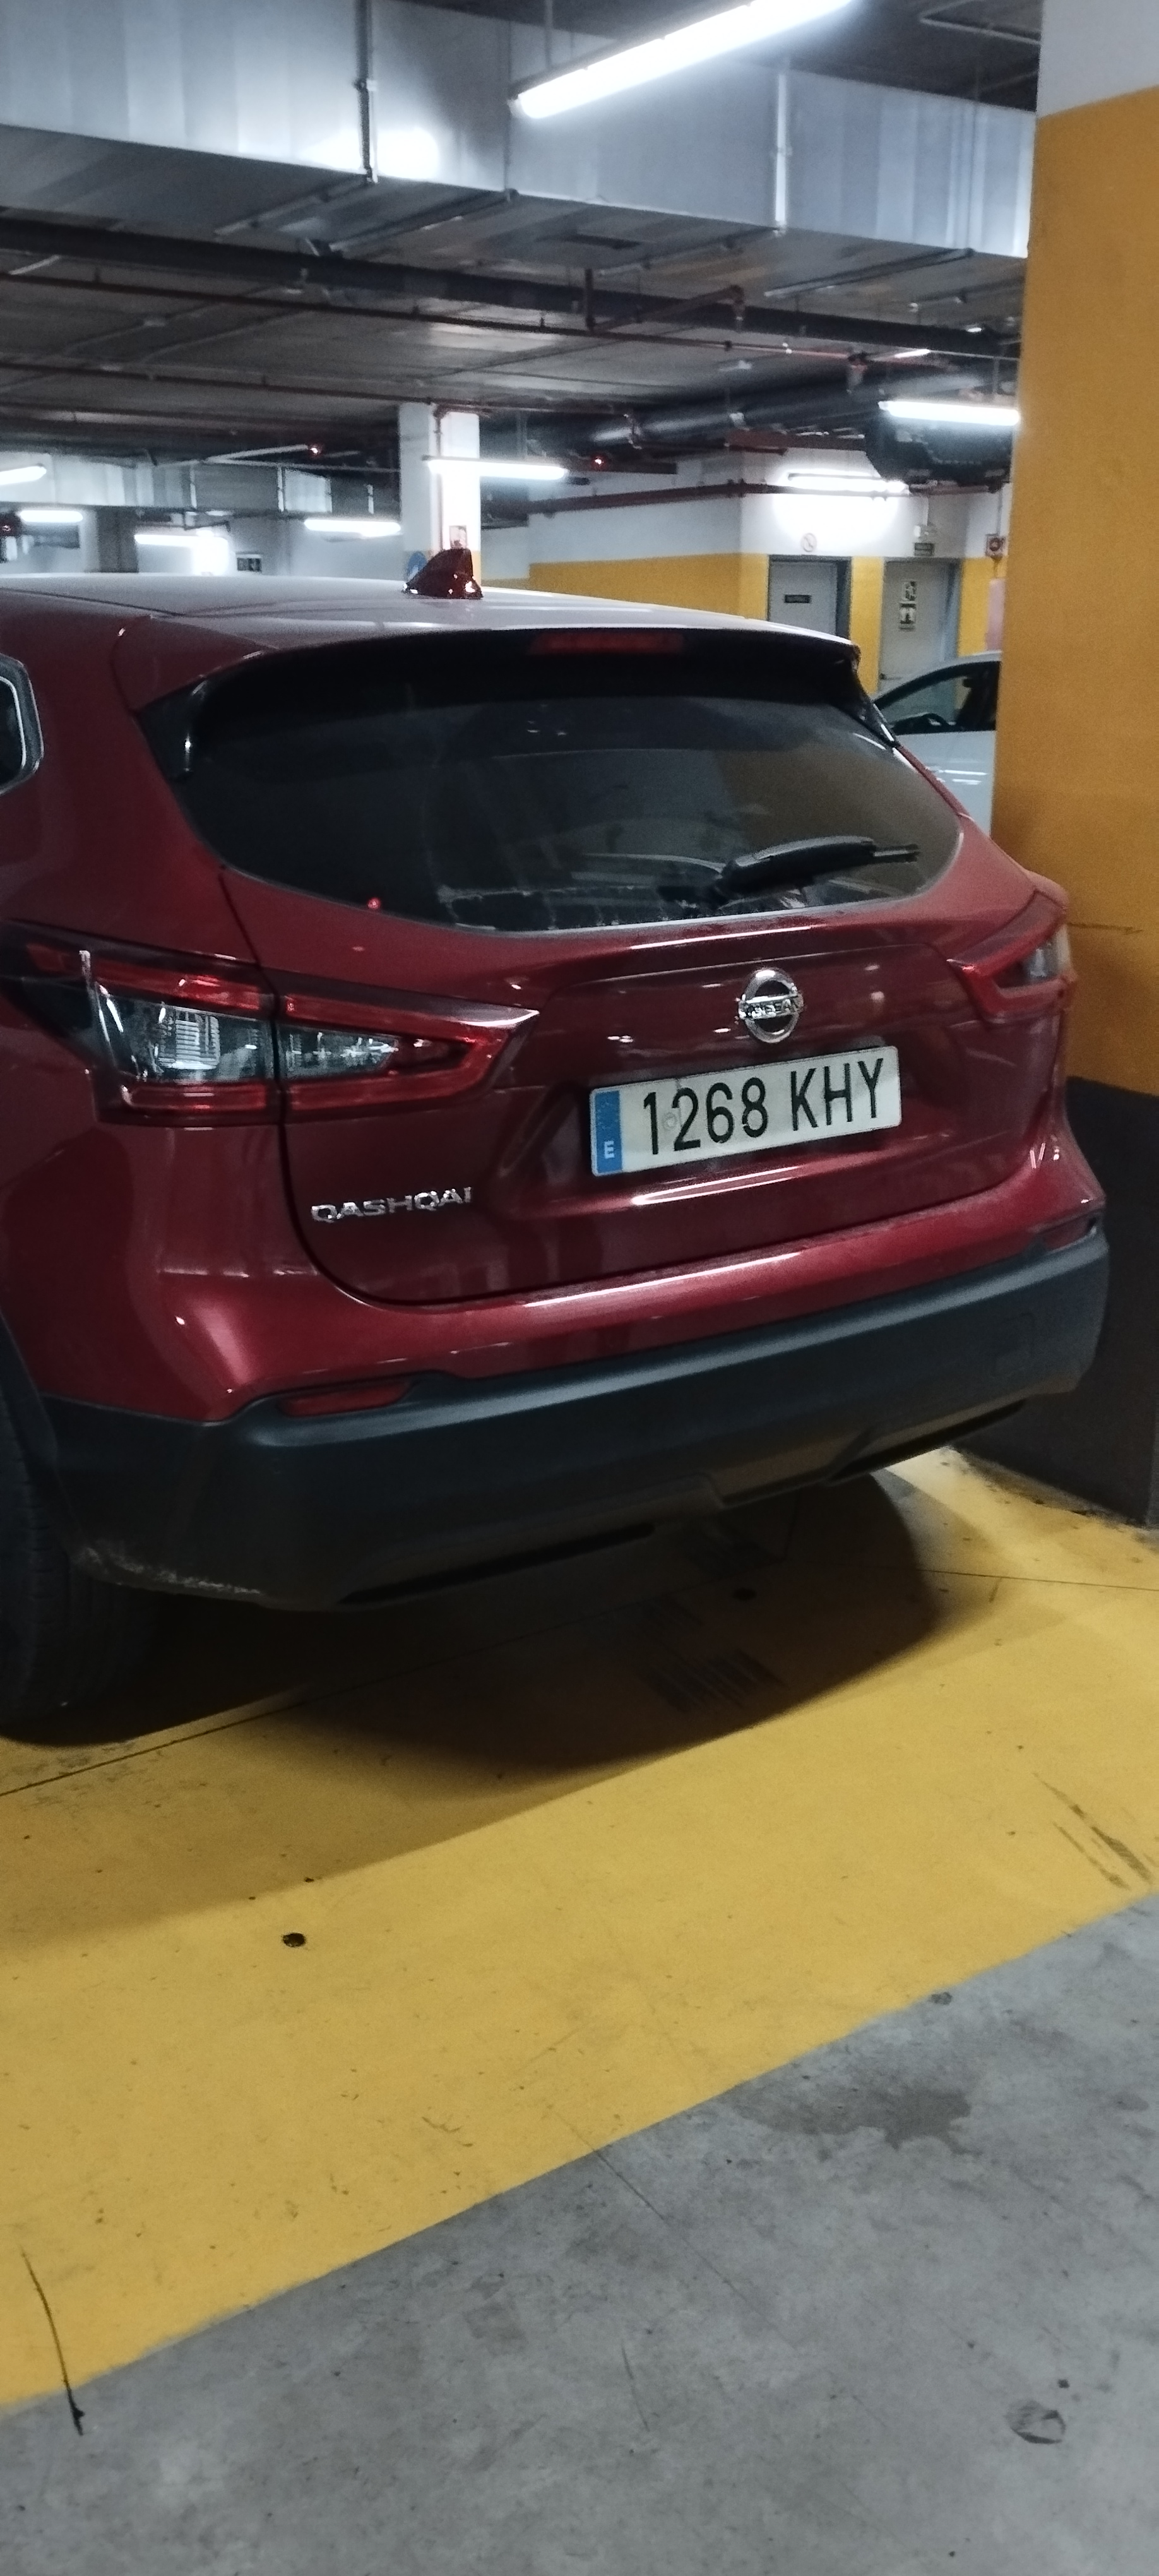Car: (0, 565, 1097, 1614)
Plate: (580, 1099, 915, 1183)
